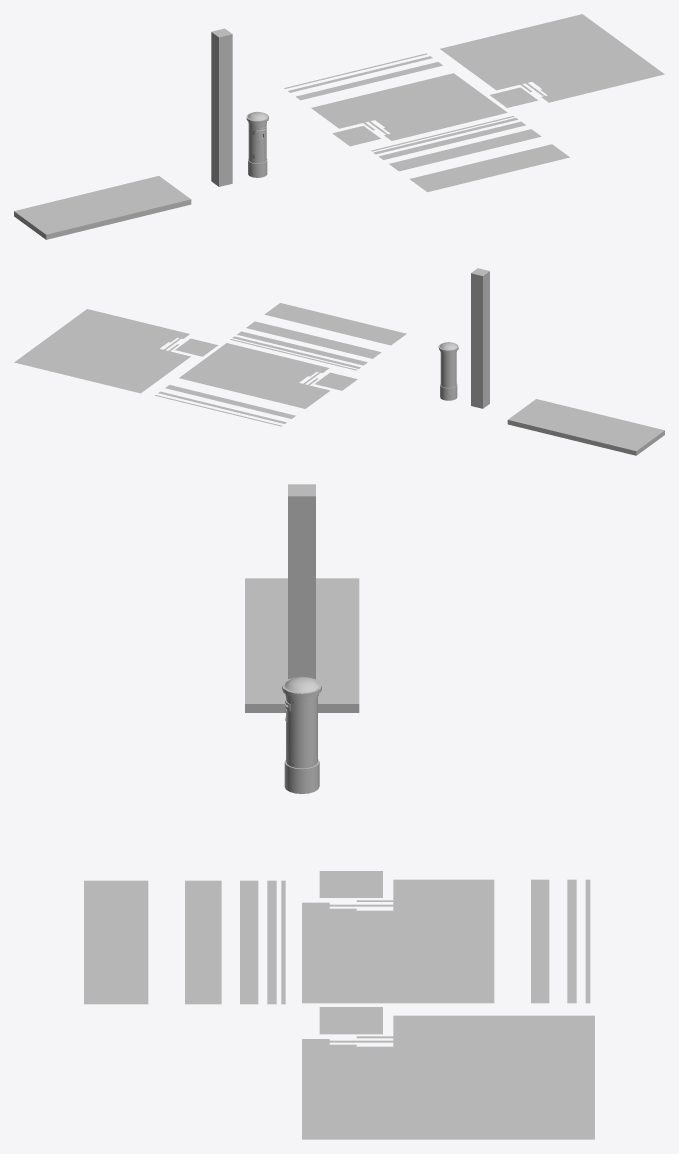
The model's file is UltimateTrimExamples.fbx.
3 renders of one model, top to bottom at view 1: azimuth 30°, elevation 25°; view 2: azimuth 150°, elevation 25°; view 3: azimuth 270°, elevation 25°, orthographic. The views are drawn at different scales.
Parts seen in each view (by area): view 1: HotspotAtlas.001, HotspotAtlas, HotspotAtlas.002, TableTop, Pillar_4m, PostBox_HotspotUvs; view 2: HotspotAtlas.001, HotspotAtlas, HotspotAtlas.002, TableTop, Pillar_4m, PostBox_HotspotUvs; view 3: HotspotAtlas.001, HotspotAtlas, HotspotAtlas.002, TableTop, Pillar_4m, PostBox_HotspotUvs.
Part boxes in pixels (left/top/right/bottom): HotspotAtlas.001: left=440, top=14, right=664, bottom=107; HotspotAtlas: left=284, top=53, right=507, bottom=146; HotspotAtlas.002: left=371, top=116, right=569, bottom=192; TableTop: left=14, top=176, right=191, bottom=239; Pillar_4m: left=211, top=28, right=232, bottom=186; PostBox_HotspotUvs: left=246, top=111, right=268, bottom=177; HotspotAtlas.001: left=14, top=309, right=218, bottom=393; HotspotAtlas: left=155, top=343, right=357, bottom=426; HotspotAtlas.002: left=230, top=303, right=406, bottom=370; TableTop: left=507, top=399, right=664, bottom=455; Pillar_4m: left=471, top=268, right=489, bottom=408; PostBox_HotspotUvs: left=438, top=342, right=458, bottom=400; HotspotAtlas.001: left=302, top=1007, right=594, bottom=1139; HotspotAtlas: left=302, top=871, right=590, bottom=1003; HotspotAtlas.002: left=84, top=880, right=285, bottom=1004; TableTop: left=245, top=578, right=359, bottom=712; Pillar_4m: left=288, top=484, right=315, bottom=679; PostBox_HotspotUvs: left=282, top=676, right=321, bottom=793.
Size of the model in its own units: 17.78 by 4 by 6.98.
